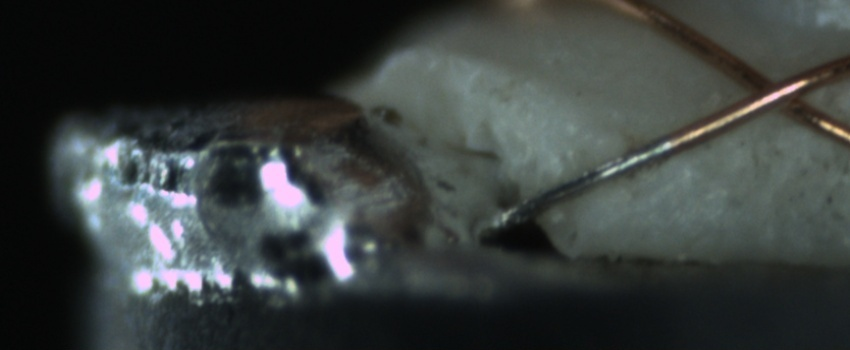CL: (723, 53, 834, 127)
TS: (498, 137, 675, 228)
